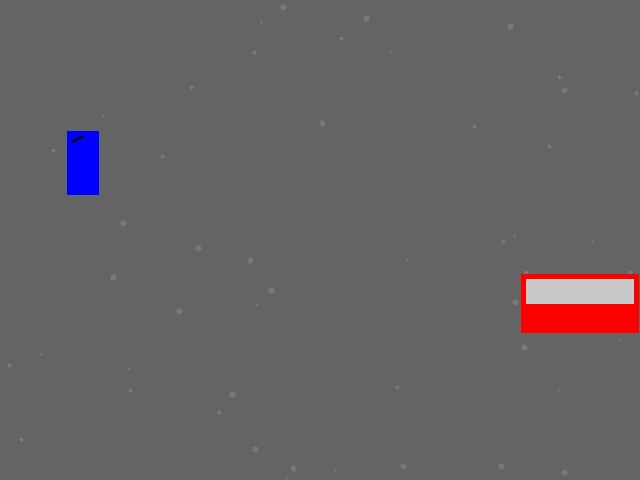car: (521, 274, 638, 332)
motorcycle: (67, 131, 98, 194)
